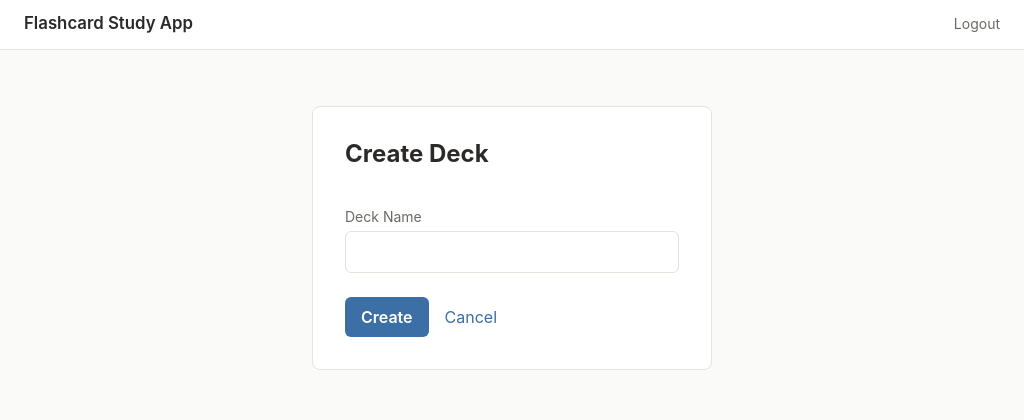
Test: CreateDeckPage › says the deck name can't be empty () before sending anything
Click the button "Create" at (387, 317), box [345, 297, 428, 337]
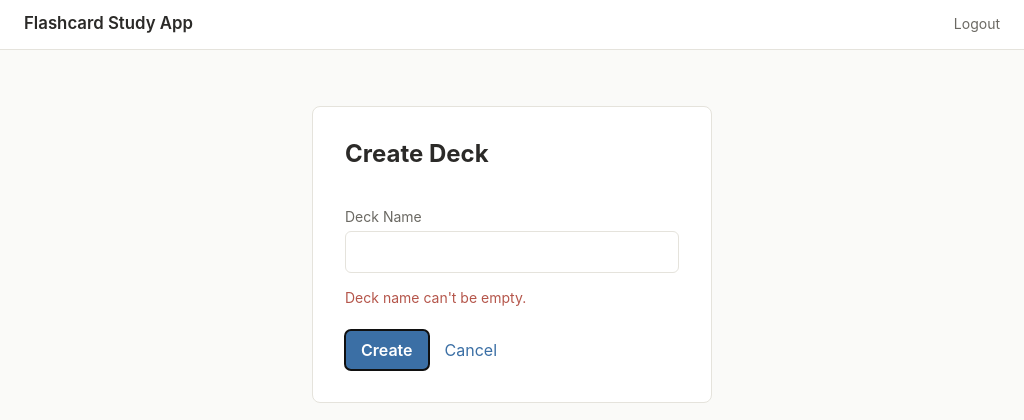
expect the text "Deck name can't be empty." is shown: met, box [345, 289, 526, 306]
